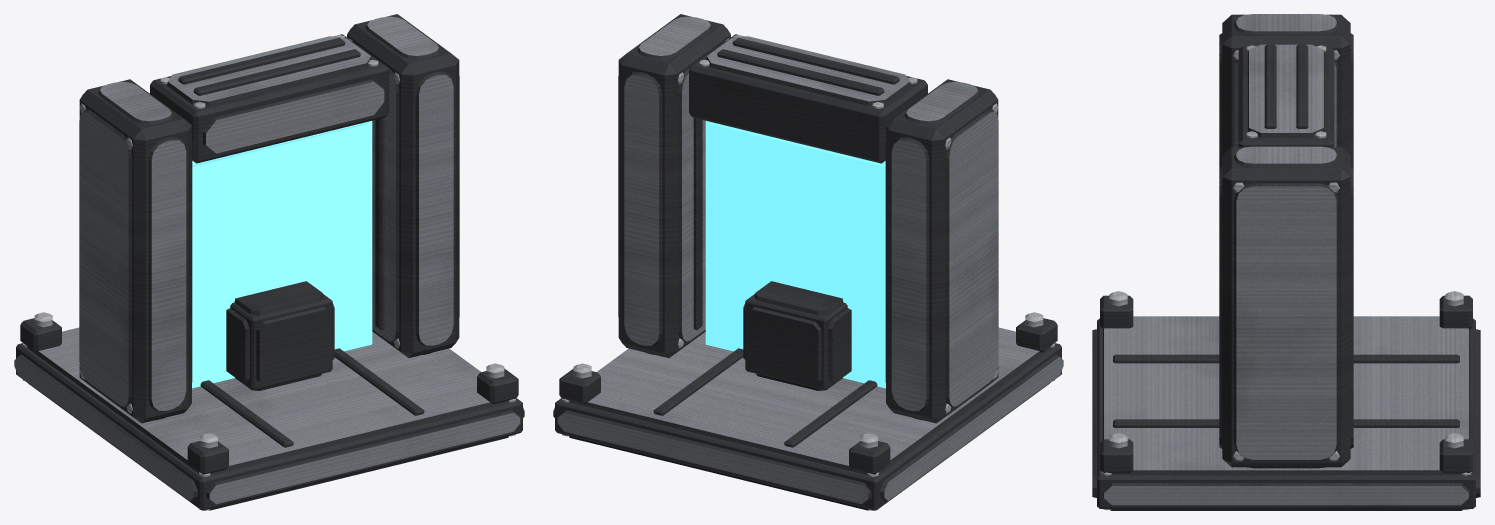
Rendered from R4X_StructuralScanner.glb.
3 renders of one model, left to right at view 1: azimuth 30°, elevation 25°; view 2: azimuth 150°, elevation 25°; view 3: azimuth 270°, elevation 25°, orthographic.
Parts seen in each view (by area): view 1: R4X_StructuralScanner_Body; view 2: R4X_StructuralScanner_Body; view 3: R4X_StructuralScanner_Body.
Part boxes in pixels (left/top/right/bottom): R4X_StructuralScanner_Body: left=14, top=14, right=524, bottom=510; R4X_StructuralScanner_Body: left=553, top=14, right=1063, bottom=510; R4X_StructuralScanner_Body: left=1092, top=14, right=1480, bottom=510.
Size of the model in its own units: 0.52 by 0.517 by 0.52.
4 materials, 3 textured.
